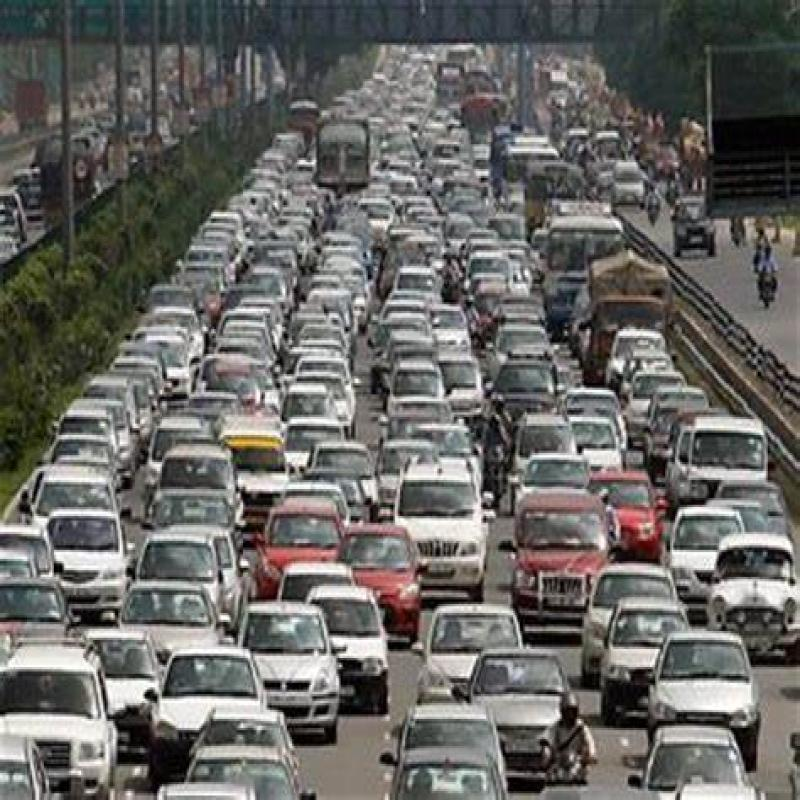car: (0, 631, 120, 764), (646, 623, 772, 743), (462, 648, 585, 770), (243, 602, 341, 738), (470, 639, 572, 759), (144, 648, 264, 749), (606, 601, 692, 739), (709, 523, 800, 651), (404, 451, 492, 576), (313, 580, 399, 702), (350, 517, 432, 639), (349, 516, 422, 632), (123, 582, 220, 666), (46, 500, 124, 597), (255, 496, 345, 572), (130, 525, 224, 587)
